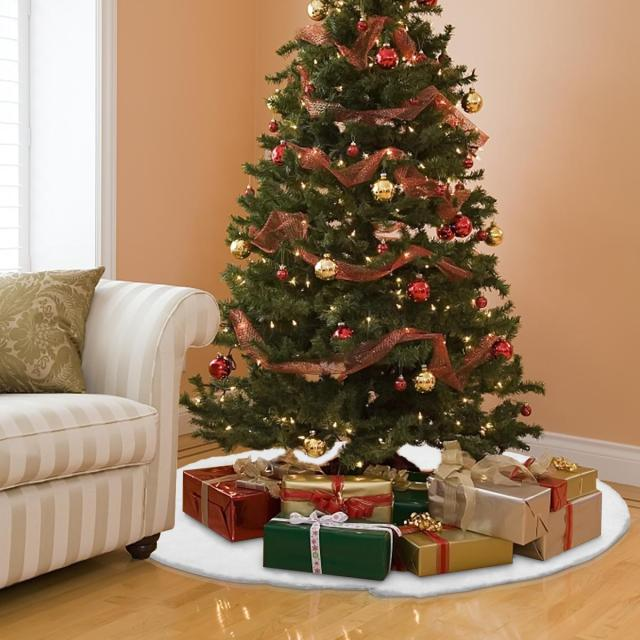Christmas-tree: (201, 0, 535, 448)
